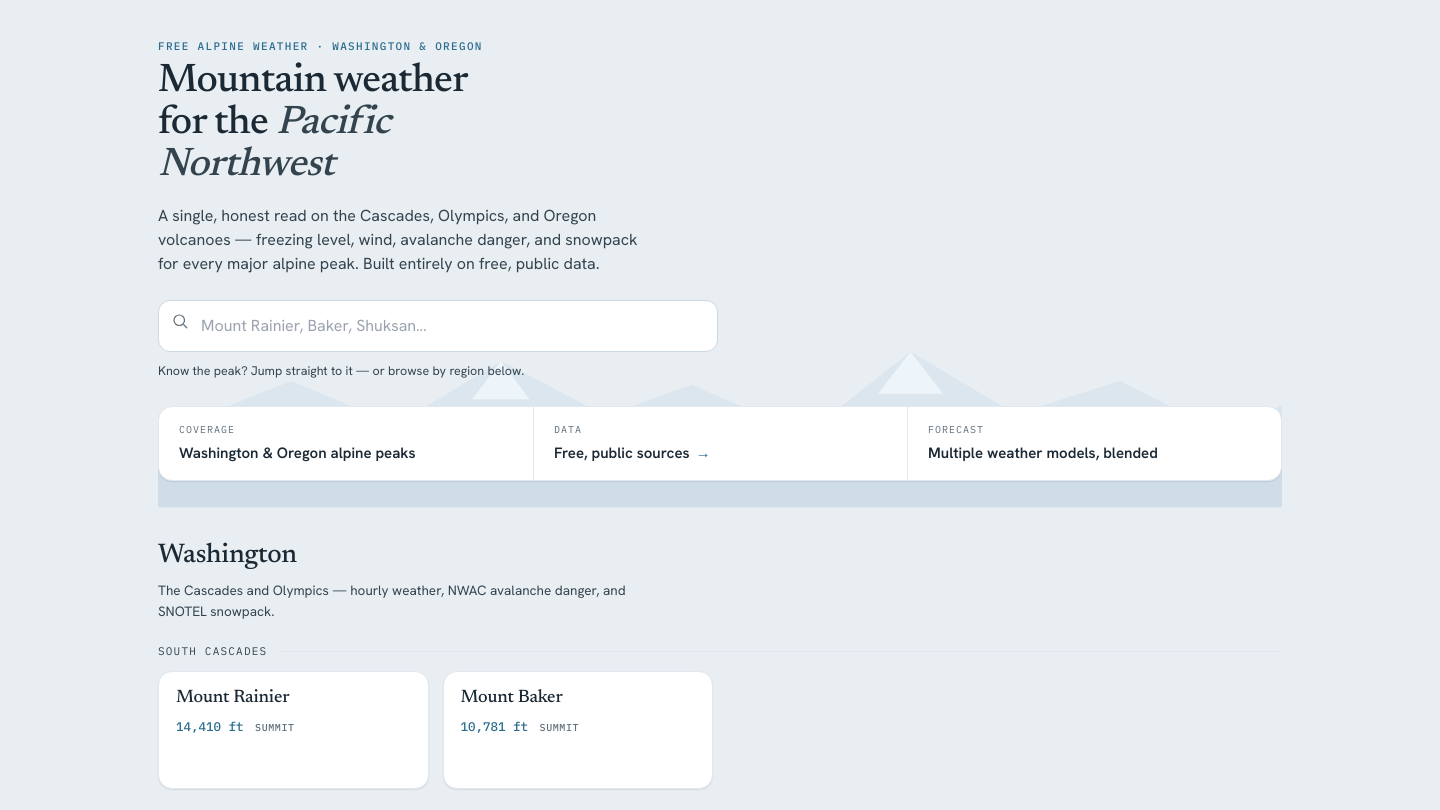
Scenario: Home (search-first) › shows matching suggestions once 3+ characters are typed
In the dropdown named "search mountains": point(438, 326) 158,300 -> 718,352, type "rai"
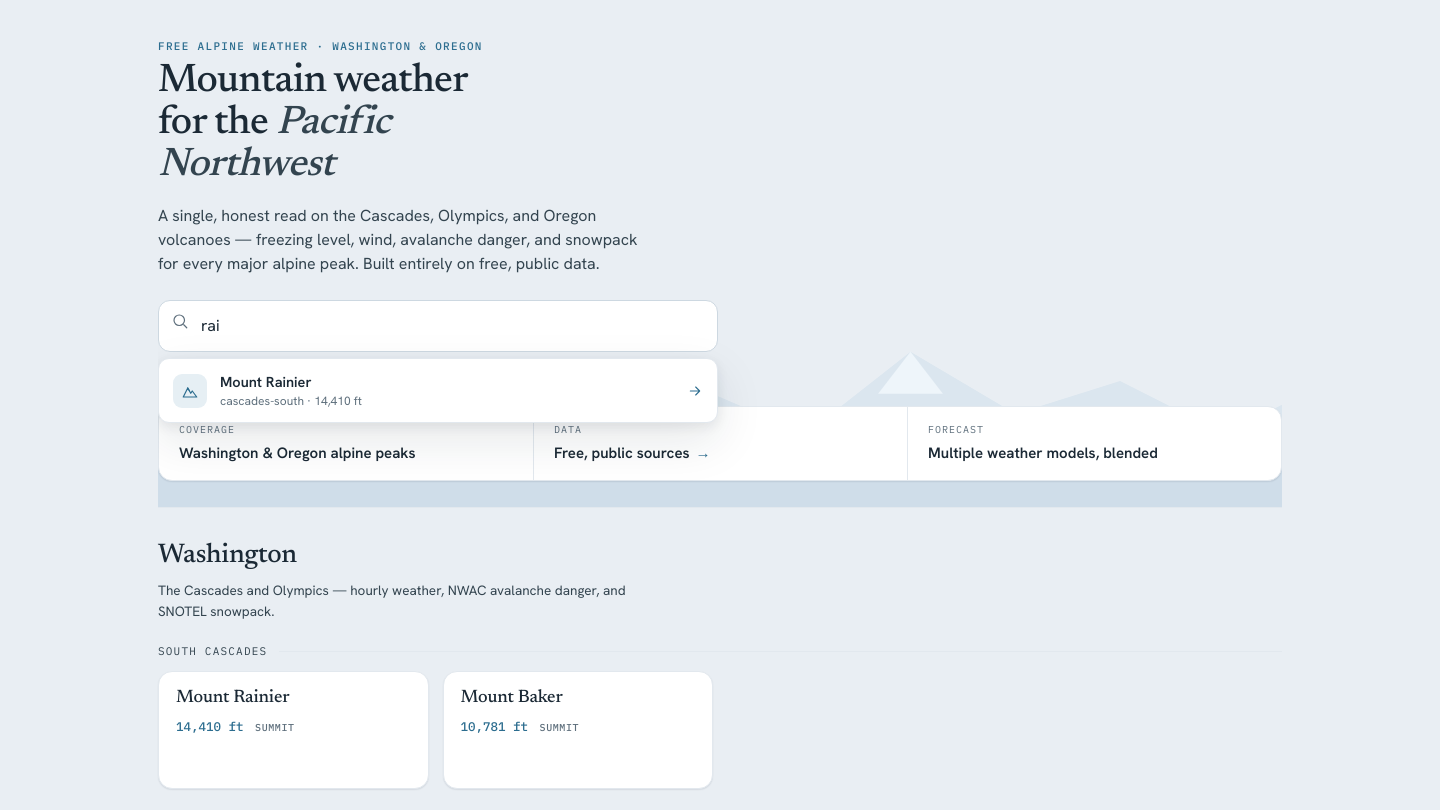
Now the option "Mount Rainier cascades-south · 14,410 ft" is shown, box 159,359 -> 717,422
